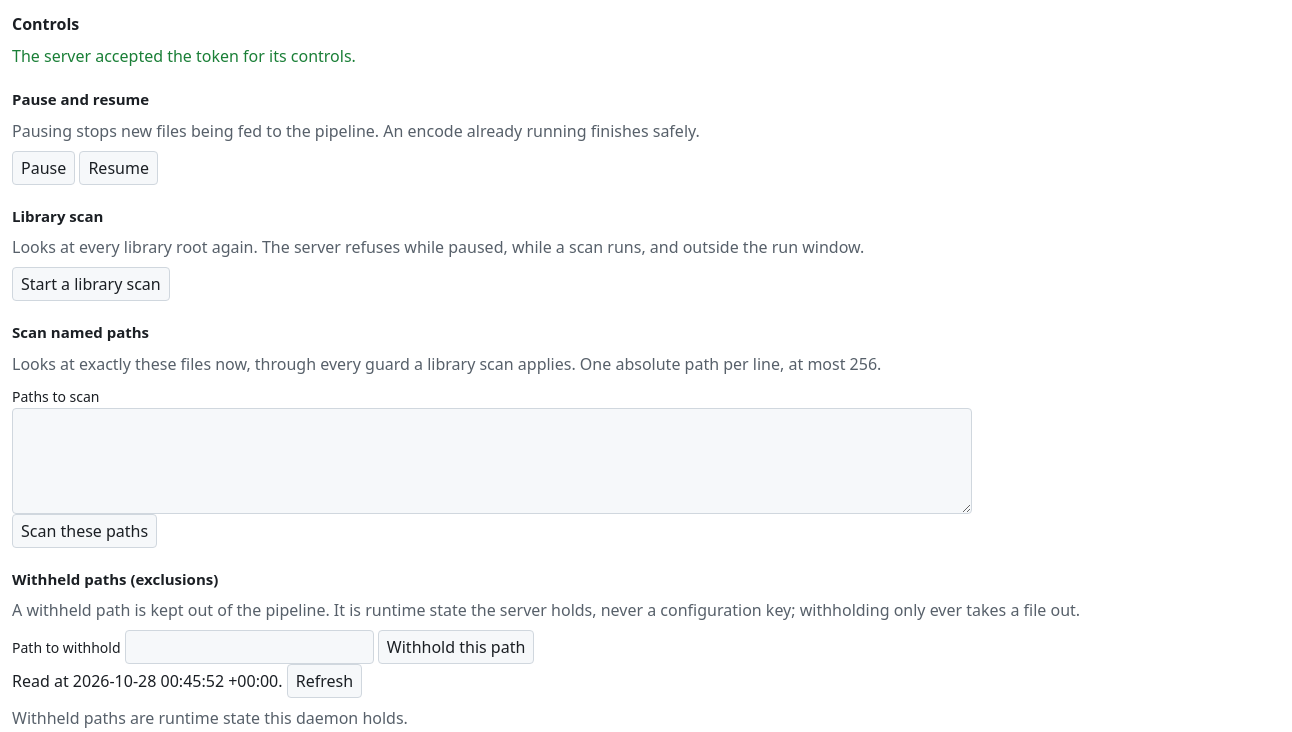
it: controls › controls: pause reports what the server said, not what was asked for
Expected: the text "The server accepted the token for its controls." is shown, [12, 45, 356, 67]
Click the button "Pause" at [44, 168], box [12, 150, 75, 184]
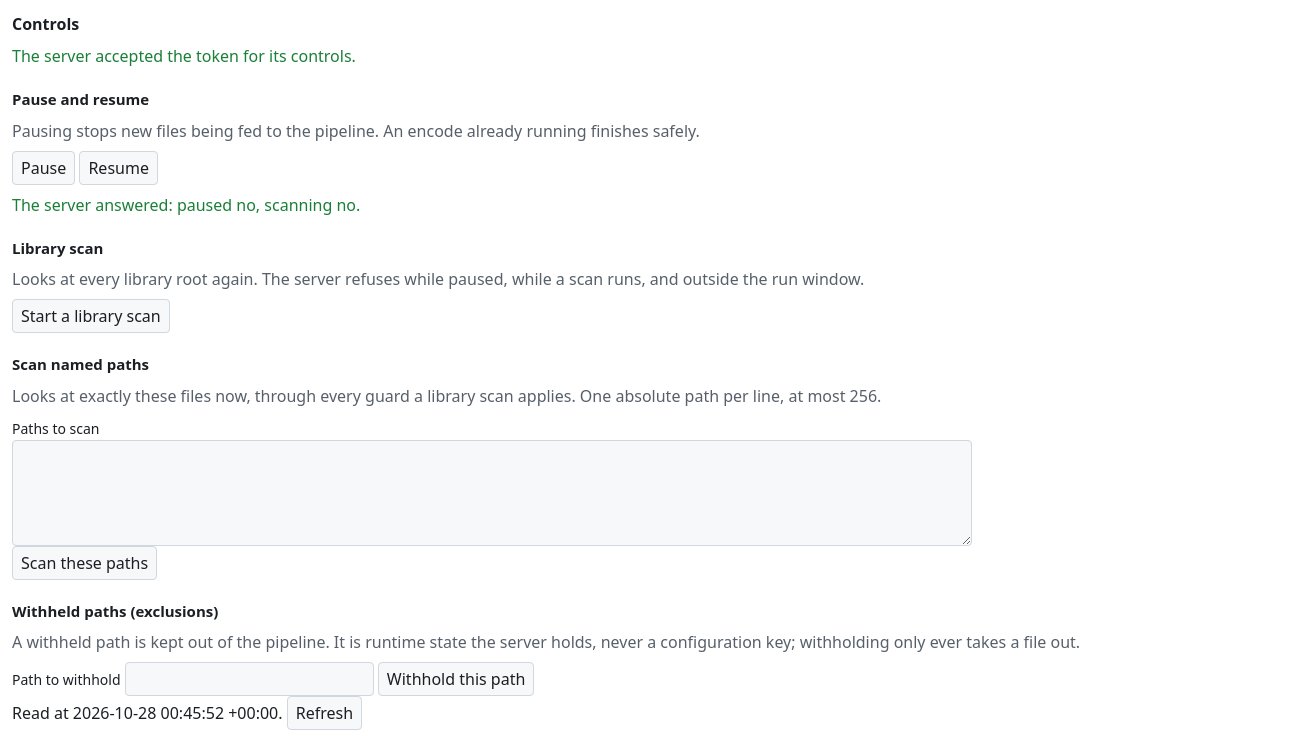
Expected: the text "The server answered: paused no, scanning no." is shown, [12, 194, 360, 216]
